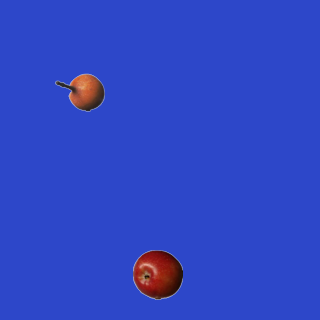Apple Braeburn: (132, 249, 182, 299)
Granadilla: (54, 67, 104, 117)
